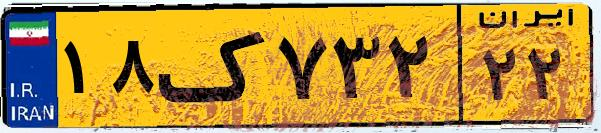1: (57, 26, 110, 100)
2: (385, 28, 445, 110), (475, 38, 525, 113), (525, 38, 570, 115)
3: (330, 28, 385, 110)
7: (270, 28, 330, 110)
8: (110, 28, 158, 98)
ک: (158, 12, 270, 120)
